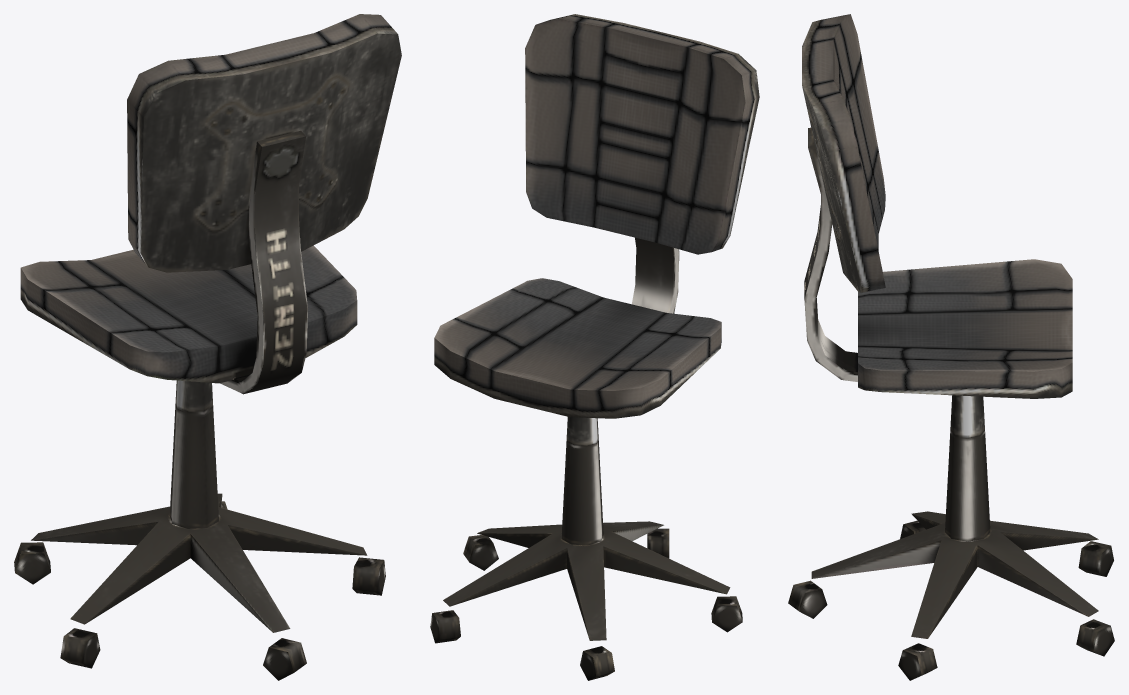
Rendered from Chair V3.fbx.
3 renders of one model, left to right at view 1: azimuth 30°, elevation 25°; view 2: azimuth 150°, elevation 25°; view 3: azimuth 270°, elevation 25°, orthographic. The views are drawn at different scales.
Visible parts, largest first — view 1: Chair Low Poly; view 2: Chair Low Poly; view 3: Chair Low Poly.
Part boxes in pixels (x1=…): Chair Low Poly: x1=14, y1=14, x2=401, y2=680; Chair Low Poly: x1=430, y1=14, x2=759, y2=680; Chair Low Poly: x1=788, y1=14, x2=1114, y2=680.
Bounding box in the file's own units: 71.58 × 73.65 × 135.
1 material, 1 textured.
